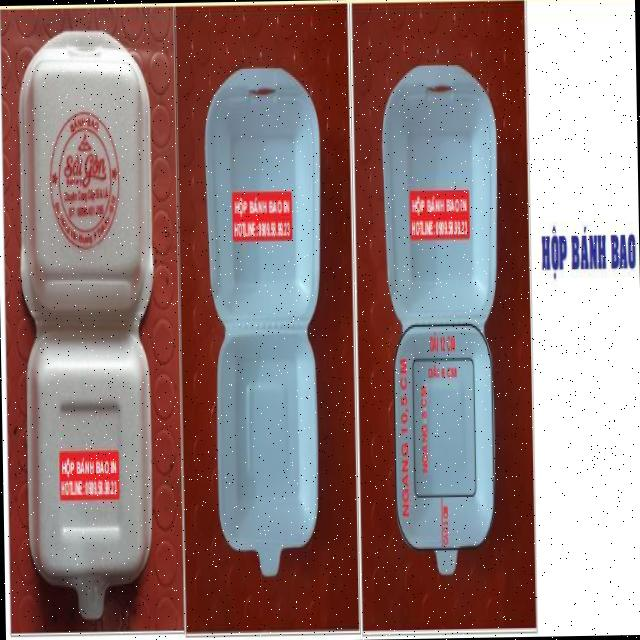styrofoam: (14, 26, 160, 618), (202, 61, 328, 576), (379, 58, 504, 576)
